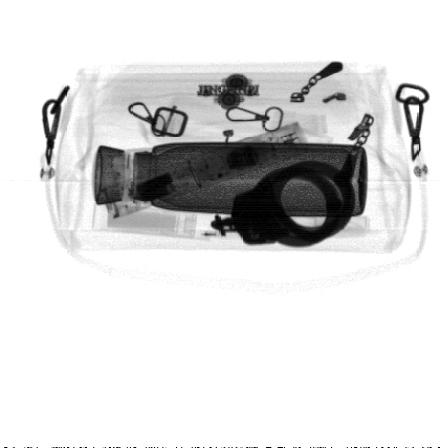Baton: (101, 120, 311, 222)
HandCuffs: (208, 159, 356, 250)
